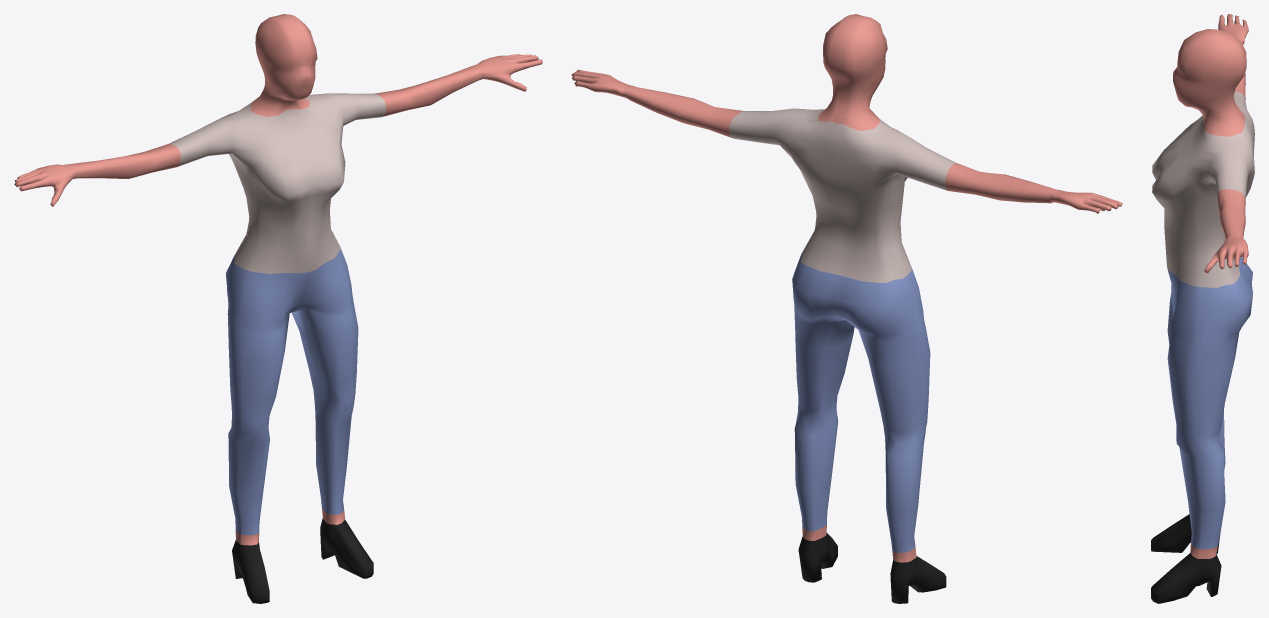
File: MULHER.fbx
3 views of the same model, side by side, from view 1: azimuth 30°, elevation 25°; view 2: azimuth 150°, elevation 25°; view 3: azimuth 270°, elevation 25° (orthographic). The views are drawn at different scales.
Parts seen in each view (by area): view 1: Cube_Cube.000; view 2: Cube_Cube.000; view 3: Cube_Cube.000.
Boxes of the visible parts, left/top/right/bottom form: Cube_Cube.000: left=14, top=14, right=542, bottom=603; Cube_Cube.000: left=571, top=14, right=1122, bottom=603; Cube_Cube.000: left=1151, top=14, right=1254, bottom=603.
Bounding box in the file's own units: 174 × 175 × 30.38.
